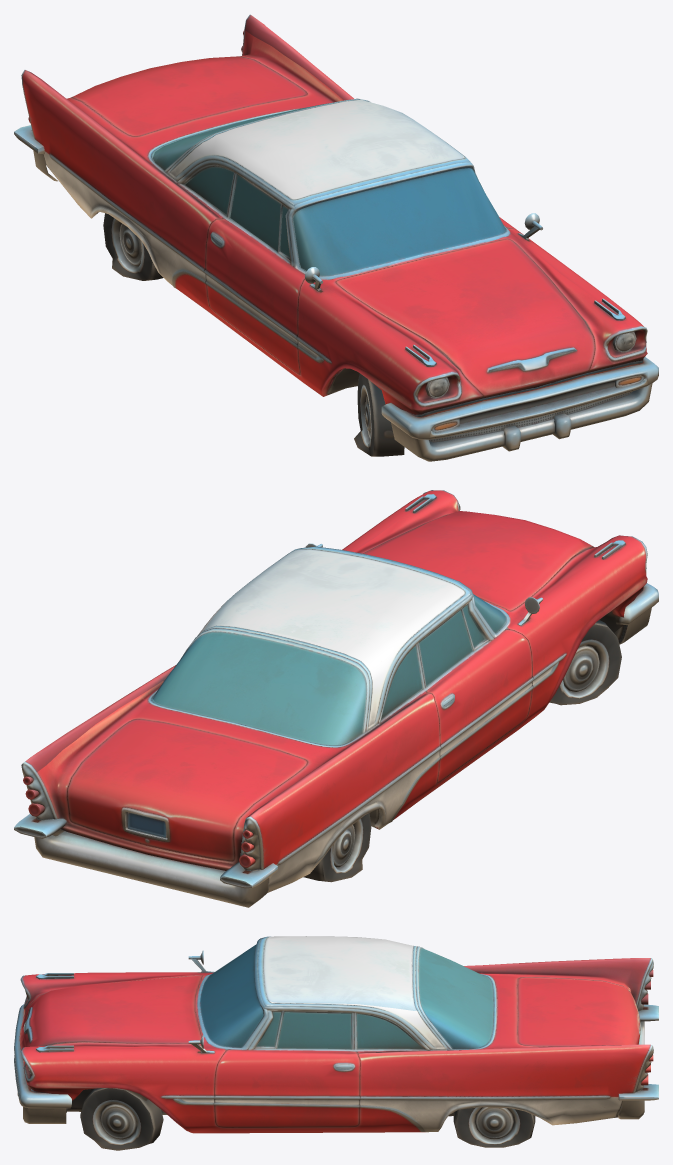
The model's file is car.glb.
The picture shows the model from 3 angles, top to bottom: view 1: azimuth 30°, elevation 25°; view 2: azimuth 150°, elevation 25°; view 3: azimuth 270°, elevation 25°; orthographic projection. The views are drawn at different scales.
Parts seen in each view (by area): view 1: Car, Windows; view 2: Car, Windows; view 3: Car, Windows.
Boxes of the visible parts, box(x1,y1,x2,y2) form: Car: box(14, 14, 658, 461); Windows: box(152, 103, 505, 275); Car: box(14, 490, 658, 907); Windows: box(153, 594, 505, 744); Car: box(14, 936, 658, 1150); Windows: box(200, 944, 492, 1049).
Size of the model in its own units: 2.43 by 1.66 by 6.89.
Materials: 2 (2 with a texture image).
